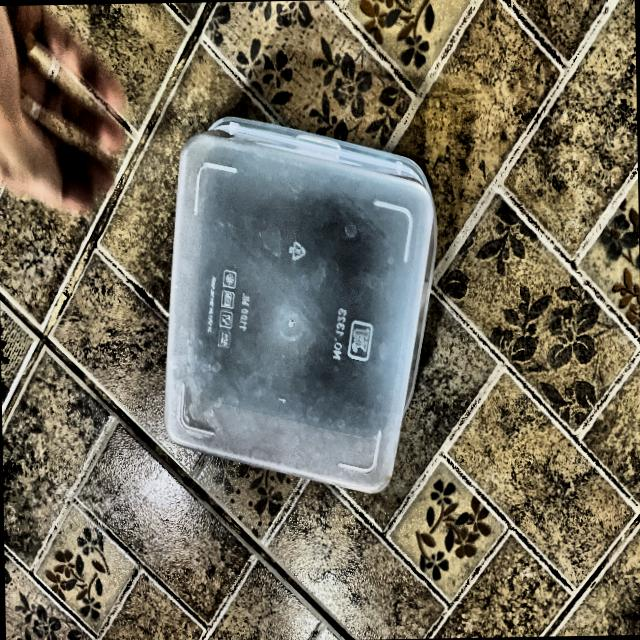plastic container: (133, 116, 479, 498)
